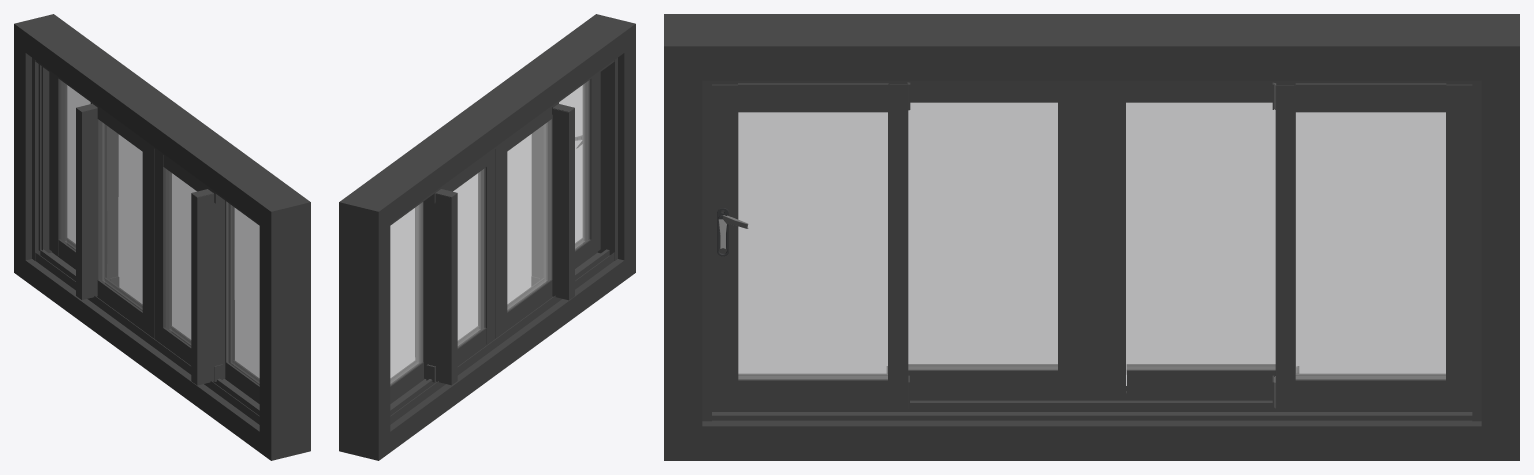
The model's file is WOW_Var-02.glb.
3 renders of one model, left to right at view 1: azimuth 30°, elevation 25°; view 2: azimuth 150°, elevation 25°; view 3: azimuth 270°, elevation 25°, orthographic. The views are drawn at different scales.
Parts seen in each view (by area): view 1: DG Aperture 2T4P.002, DG Aperture 2T4P.008, DG Aperture 2T4P.006, DG Aperture 2T4P.005, DG Aperture 2T4P.004, DG Aperture 2T4P.007; view 2: DG Aperture 2T4P.002, DG Aperture 2T4P.006, DG Aperture 2T4P.008, DG Aperture 2T4P.004, DG Aperture 2T4P.005, DG Aperture 2T4P.007; view 3: DG Aperture 2T4P.002, DG Aperture 2T4P.006, DG Aperture 2T4P.008, DG Aperture 2T4P.004, DG Aperture 2T4P.005, DG Aperture 2T4P.007.
Part boxes in pixels (x1,y1,x2,y2): DG Aperture 2T4P.002: (14, 14, 310, 460); DG Aperture 2T4P.008: (191, 188, 259, 403); DG Aperture 2T4P.006: (49, 72, 118, 299); DG Aperture 2T4P.005: (97, 107, 149, 334); DG Aperture 2T4P.004: (150, 146, 207, 364); DG Aperture 2T4P.007: (32, 58, 259, 424); DG Aperture 2T4P.002: (339, 14, 635, 460); DG Aperture 2T4P.006: (390, 189, 457, 403); DG Aperture 2T4P.008: (531, 72, 600, 300); DG Aperture 2T4P.004: (495, 107, 552, 338); DG Aperture 2T4P.005: (441, 149, 494, 365); DG Aperture 2T4P.007: (390, 58, 617, 424); DG Aperture 2T4P.002: (664, 14, 1519, 460); DG Aperture 2T4P.006: (1272, 82, 1472, 408); DG Aperture 2T4P.008: (712, 82, 910, 408); DG Aperture 2T4P.004: (908, 85, 1099, 398); DG Aperture 2T4P.005: (1099, 85, 1275, 398); DG Aperture 2T4P.007: (702, 80, 1481, 421).
Bounding box in the file's own units: 0.5202 × 2.59 × 4.85.
Materials: 6 (1 with a texture image).
